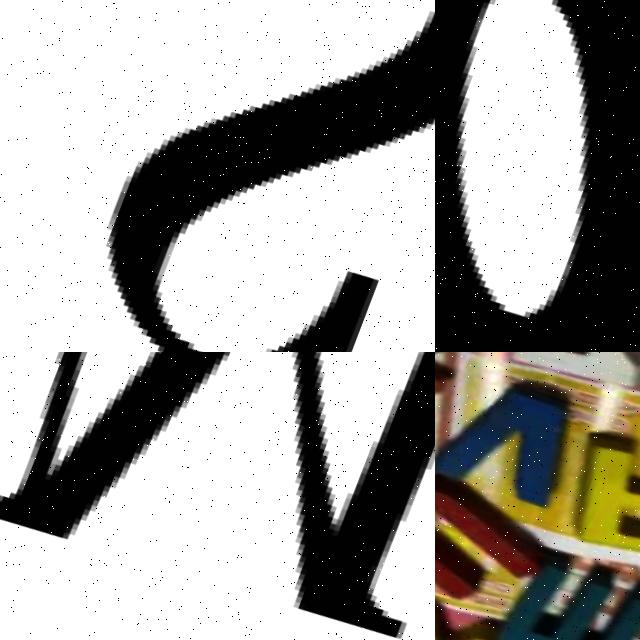0: (435, 0, 640, 352)
M: (0, 352, 435, 640), (482, 541, 640, 640)
R: (555, 423, 640, 597)
S: (29, 0, 435, 352)
U: (435, 461, 556, 635)
V: (435, 366, 589, 525)
Z: (483, 352, 640, 420)
